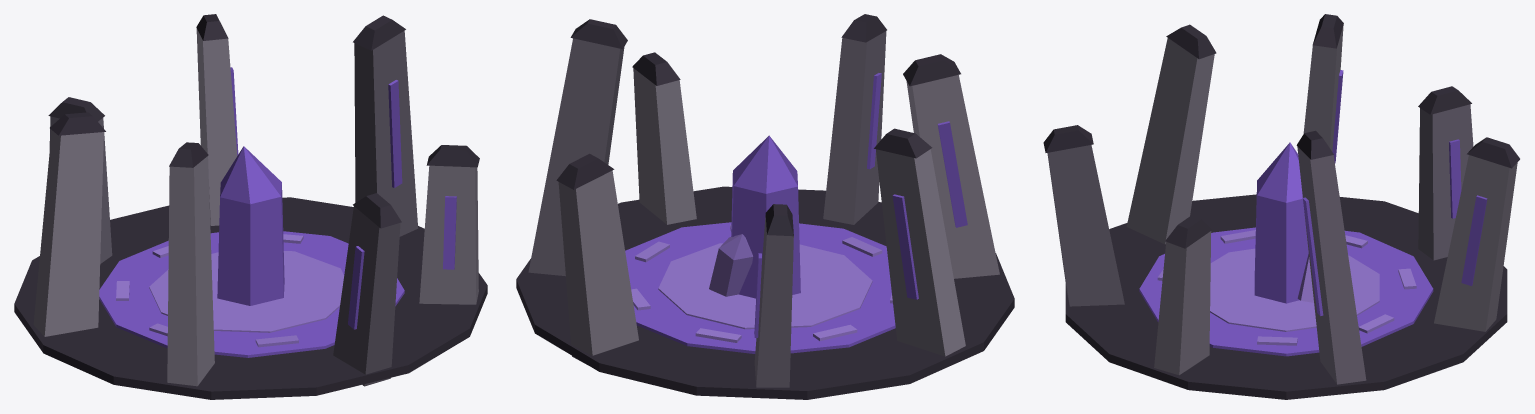
The model's file is Decor_DragonLair_Runes.fbx.
3 renders of one model, left to right at view 1: azimuth 30°, elevation 25°; view 2: azimuth 150°, elevation 25°; view 3: azimuth 270°, elevation 25°, orthographic. The views are drawn at different scales.
Visible parts, largest first — view 1: Runes_Body; view 2: Runes_Body; view 3: Runes_Body.
Boxes of the visible parts, x1,y1,x2,y2 form: Runes_Body: (14,14,487,399); Runes_Body: (516,14,1014,399); Runes_Body: (1043,14,1519,399).
Size of the model in its own units: 14.76 by 8.23 by 14.86.
